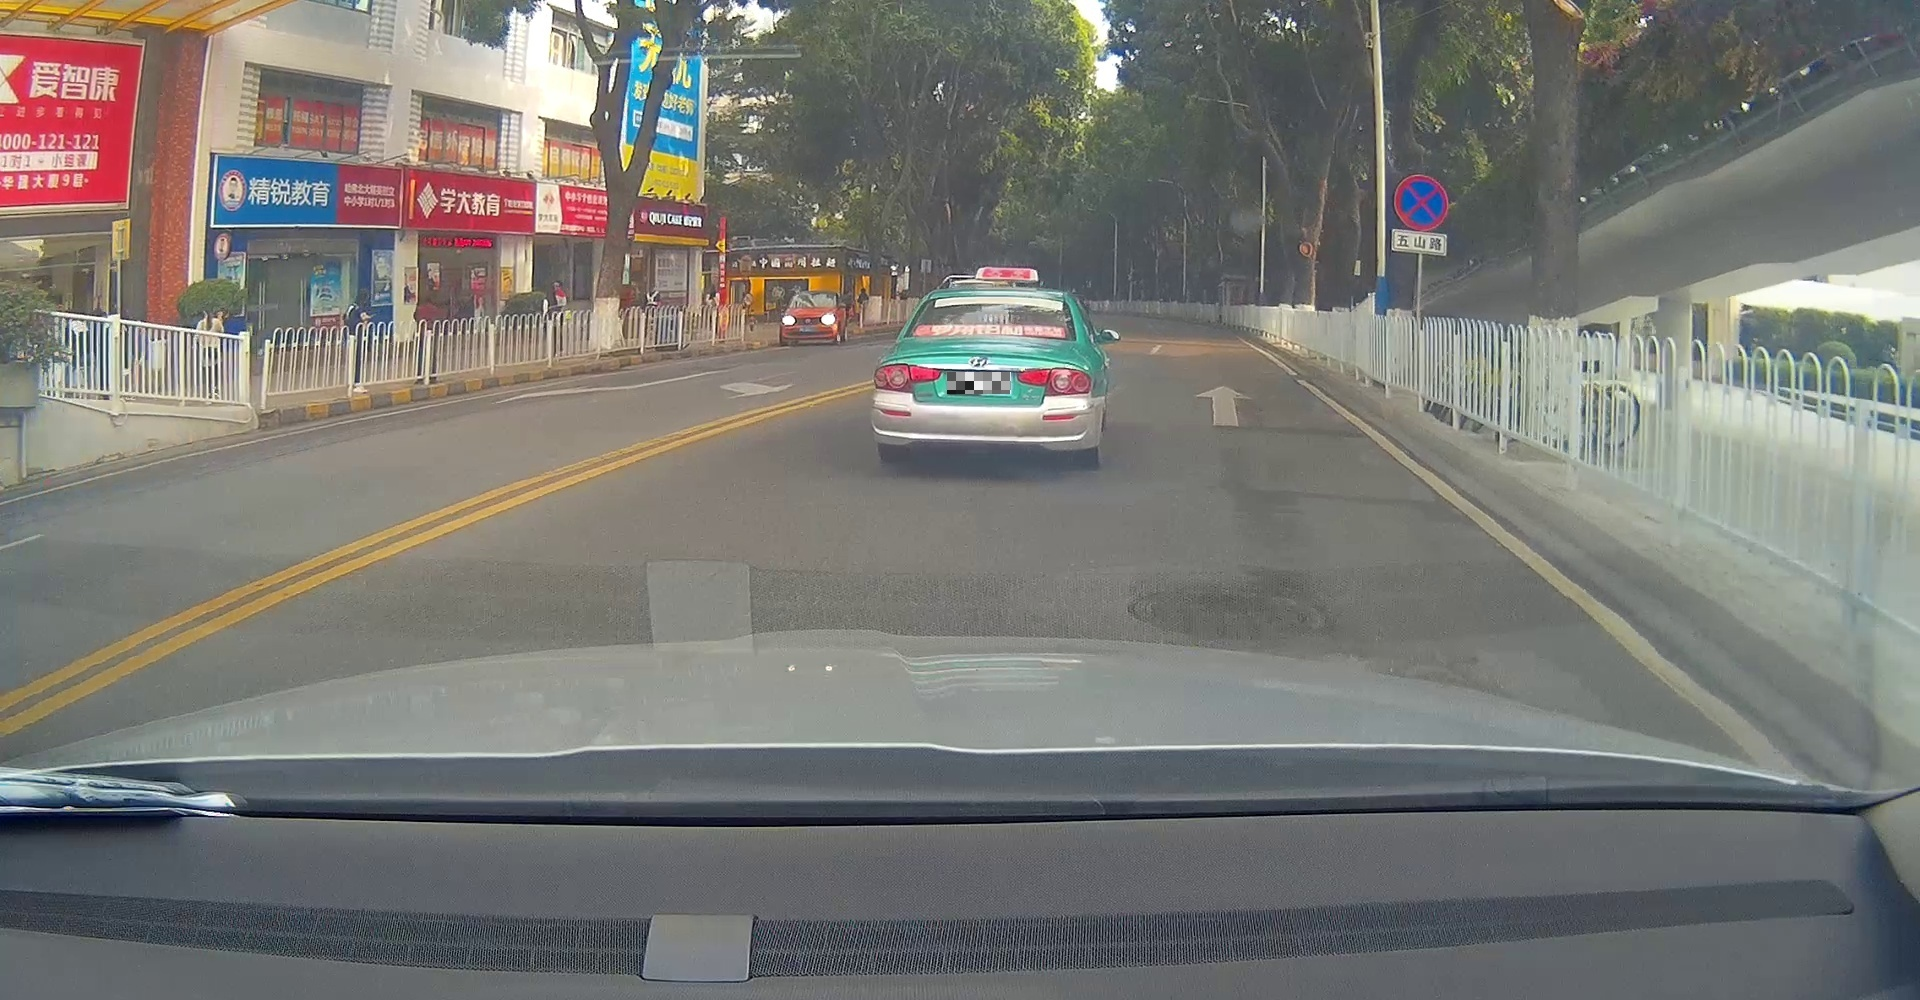L_light: (872, 362, 942, 393)
R_light: (1016, 367, 1091, 396)
T_light: (982, 294, 1008, 302)
day-no: (871, 286, 1092, 468)
plate_1: (947, 372, 1011, 393)
